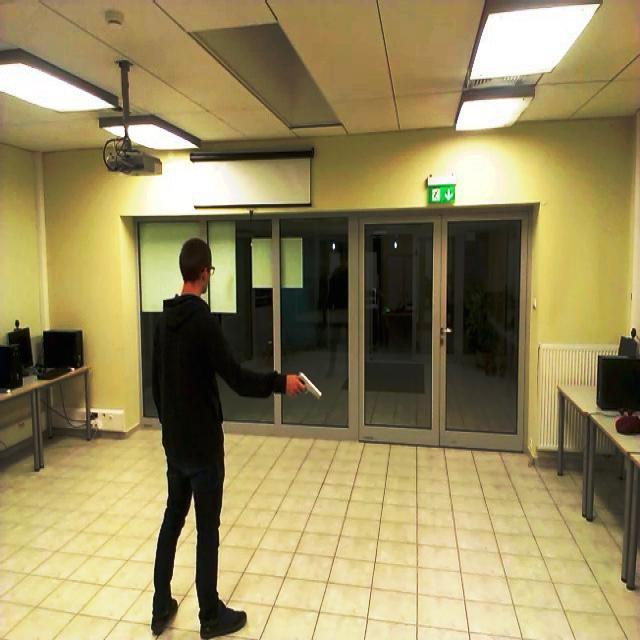Gun: (288, 355, 324, 403)
